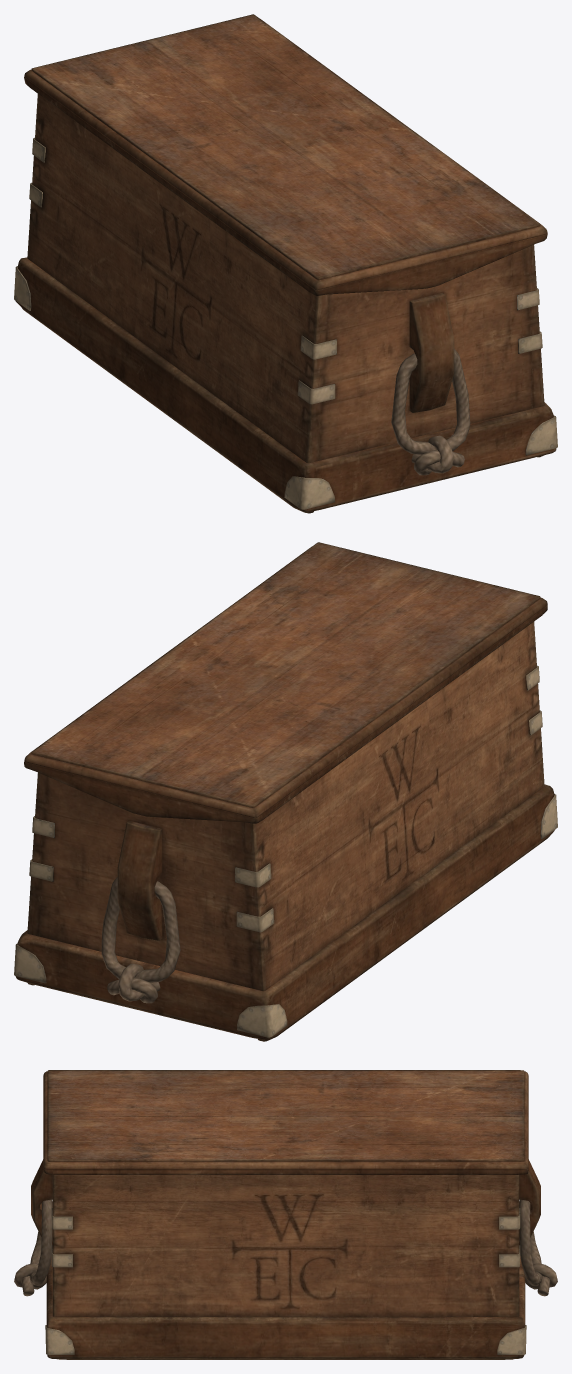
Rendered from wooden_crate_02_lod1.glb.
The picture shows the model from 3 angles, top to bottom: view 1: azimuth 30°, elevation 25°; view 2: azimuth 150°, elevation 25°; view 3: azimuth 270°, elevation 25°; orthographic projection. The views are drawn at different scales.
Parts seen in each view (by area): view 1: wooden_crate_02_crate, wooden_crate_02_lid; view 2: wooden_crate_02_crate, wooden_crate_02_lid; view 3: wooden_crate_02_crate, wooden_crate_02_lid.
Boxes of the visible parts, x1=… form: wooden_crate_02_crate: x1=14, y1=94, x2=557, y2=513; wooden_crate_02_lid: x1=24, y1=14, x2=547, y2=296; wooden_crate_02_crate: x1=14, y1=621, x2=557, y2=1041; wooden_crate_02_lid: x1=24, y1=542, x2=547, y2=823; wooden_crate_02_crate: x1=14, y1=1159, x2=557, y2=1359; wooden_crate_02_lid: x1=43, y1=1070, x2=528, y2=1174.
Bounding box in the file's own units: 0.5291 × 0.464 × 1.17.
Materials: 1 (1 with a texture image).
